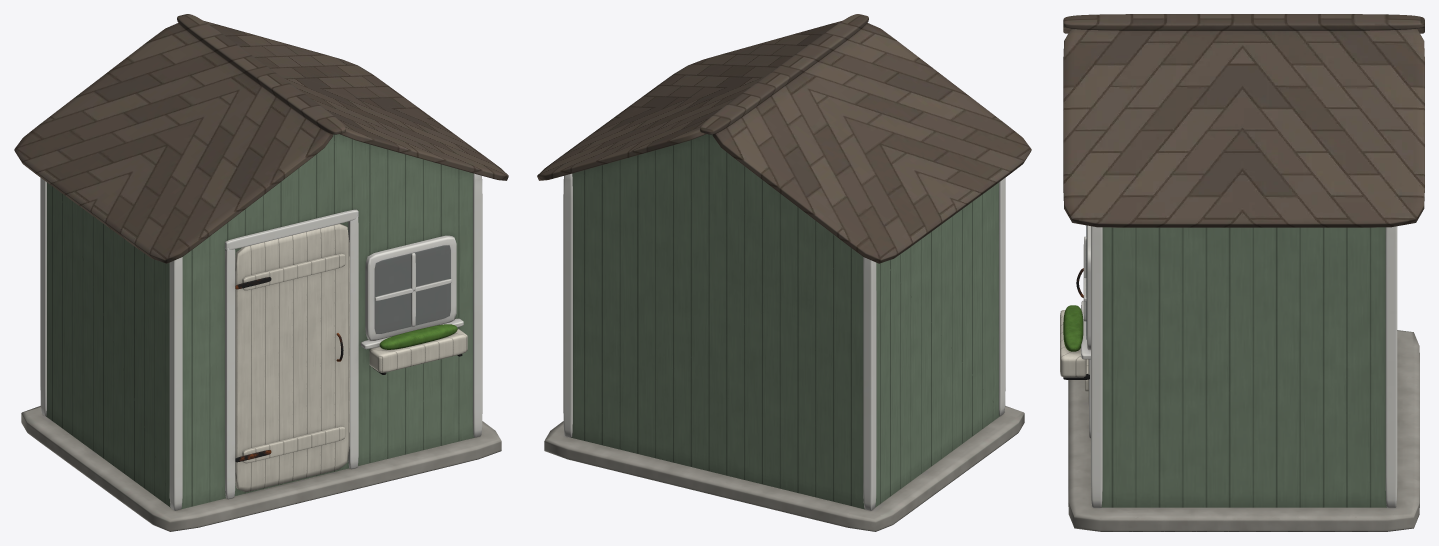
File: sage-green-planter.glb
3 views of the same model, side by side, from view 1: azimuth 30°, elevation 25°; view 2: azimuth 150°, elevation 25°; view 3: azimuth 270°, elevation 25° (orthographic). The views are drawn at different scales.
Visible parts, largest first — view 1: paint_primary_siding, roof_shingle, paint_secondary_door, trim_white, concrete, glass_window, flowers; view 2: paint_primary_siding, roof_shingle, concrete, trim_white; view 3: paint_primary_siding, roof_shingle, concrete, trim_white, paint_secondary_door, flowers.
Part boxes in pixels (<box>): paint_primary_siding: <box>46,134,474,509</box>; roof_shingle: <box>14,14,508,263</box>; paint_secondary_door: <box>235,223,467,491</box>; trim_white: <box>40,173,482,510</box>; concrete: <box>21,406,501,531</box>; glass_window: <box>375,245,450,333</box>; flowers: <box>379,324,457,349</box>; paint_primary_siding: <box>571,134,999,509</box>; roof_shingle: <box>537,14,1031,263</box>; concrete: <box>544,406,1024,531</box>; trim_white: <box>563,173,1005,510</box>; paint_primary_siding: <box>1101,227,1386,507</box>; roof_shingle: <box>1063,14,1424,227</box>; concrete: <box>1068,330,1419,531</box>; trim_white: <box>1081,225,1397,507</box>; paint_secondary_door: <box>1060,310,1088,420</box>; flowers: <box>1063,305,1083,351</box>.
Bounding box in the file's own units: 2.77 × 2.76 × 2.18.
8 materials, 7 textured.
